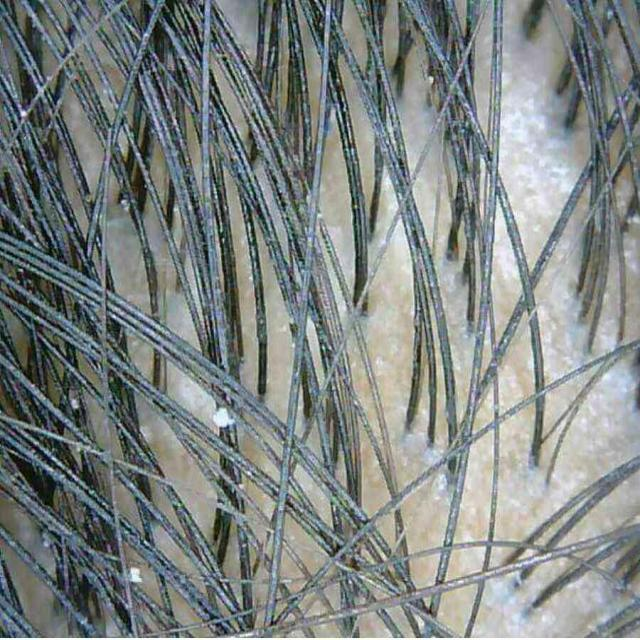d: (213, 406, 237, 429), (127, 567, 143, 584), (69, 389, 80, 412)
ds: (500, 62, 589, 267), (535, 254, 588, 382), (591, 350, 640, 460), (108, 204, 148, 298)
